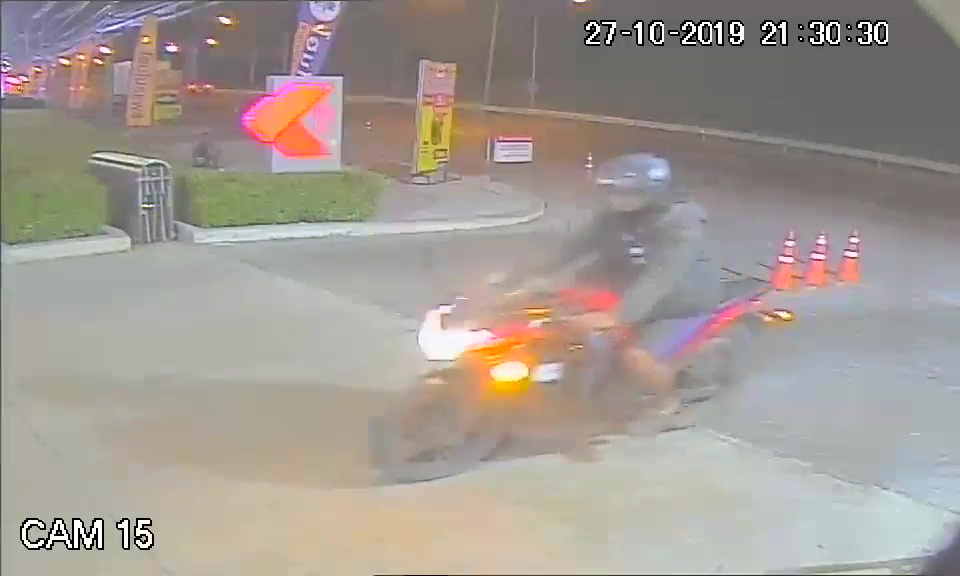motorcycle: (362, 269, 795, 485)
